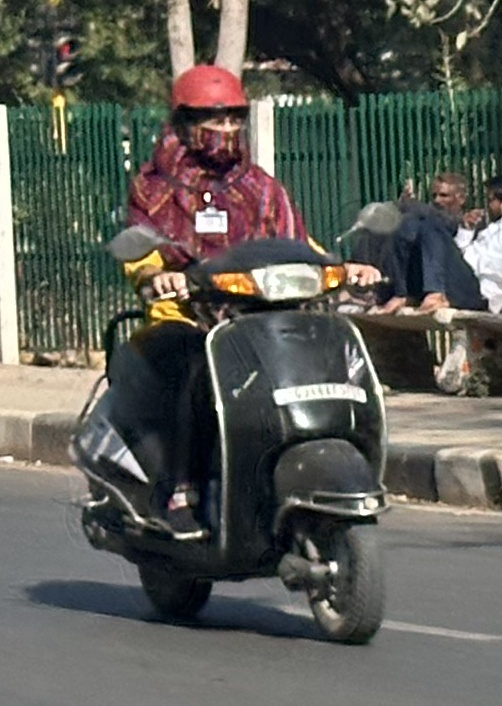BikeWithRider: (55, 56, 403, 652)
Helmet: (158, 58, 260, 170)
